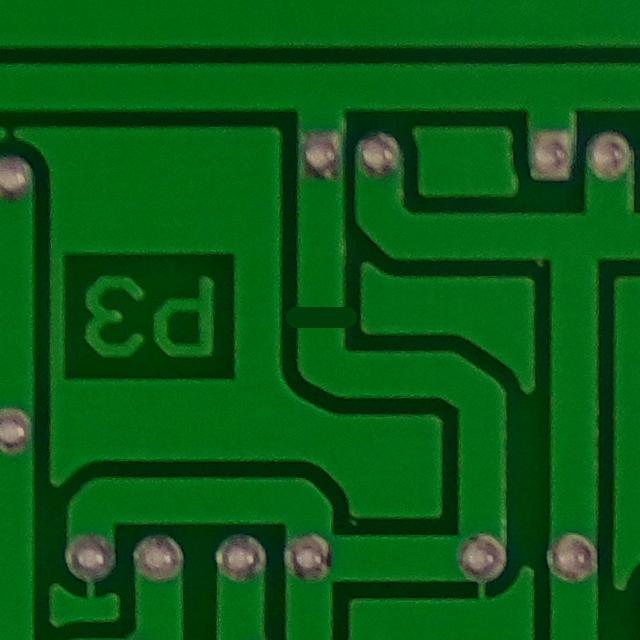open_circuit: (283, 290, 358, 351)
